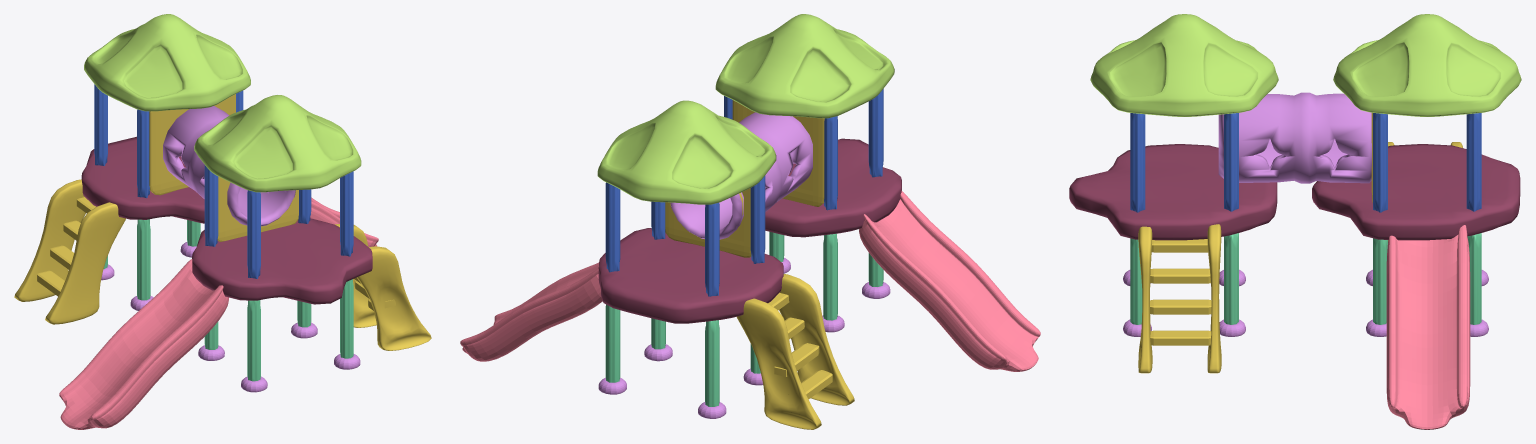
File: BrinquedaoParquinho.fbx
The picture shows the model from 3 angles, left to right: view 1: azimuth 30°, elevation 25°; view 2: azimuth 150°, elevation 25°; view 3: azimuth 270°, elevation 25°; orthographic projection. The views are drawn at different scales.
Visible parts, largest first — view 1: Brinquedao; view 2: Brinquedao; view 3: Brinquedao.
Boxes of the visible parts, <box> form: Brinquedao: <box>14,14,431,429</box>; Brinquedao: <box>460,14,1040,429</box>; Brinquedao: <box>1069,14,1521,429</box>.
Size of the model in its own units: 1258 by 803 by 1076.
